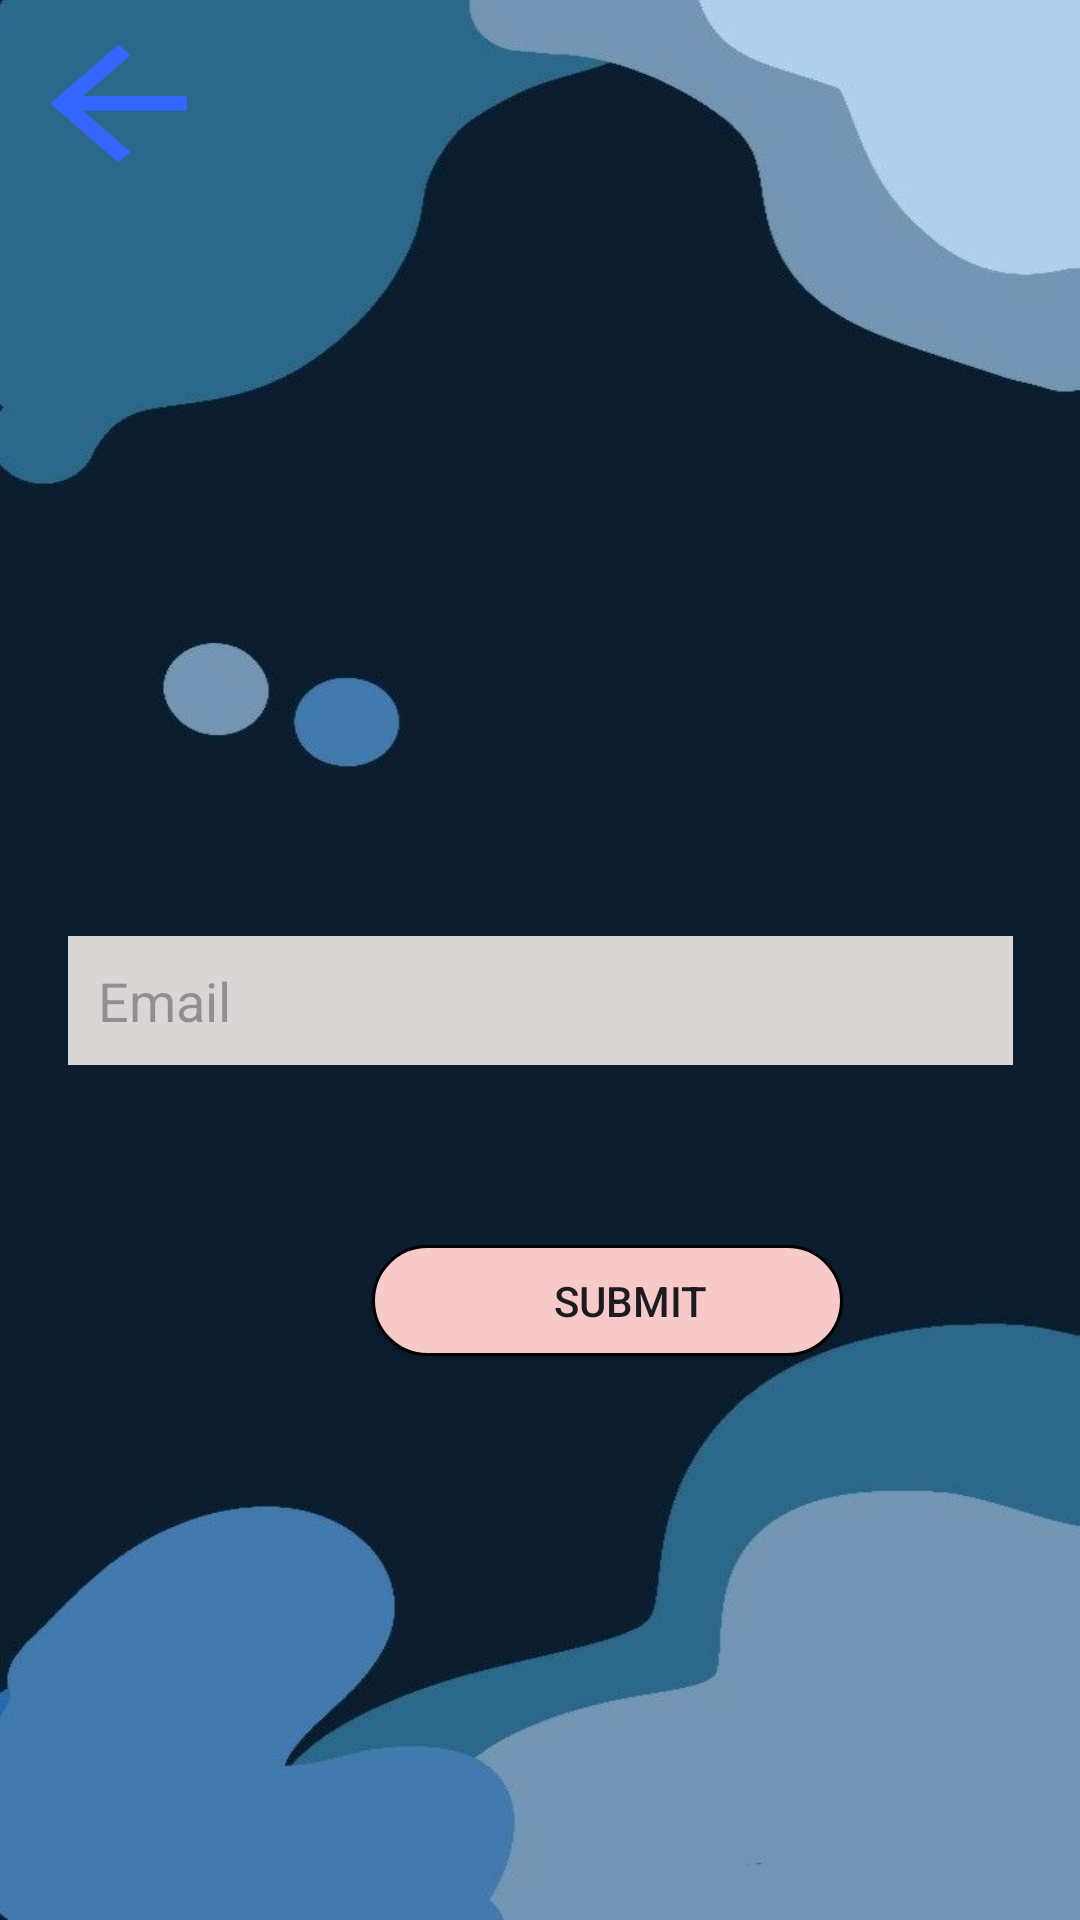

Icons on this 1080*1920 Android screen, each with its box as [left=x1, top=y1, right=x2, bottom=y2]:
back: [left=50, top=45, right=187, bottom=162]
